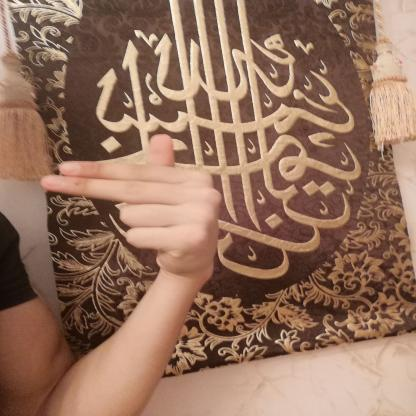GHAYN: (27, 124, 235, 286)
